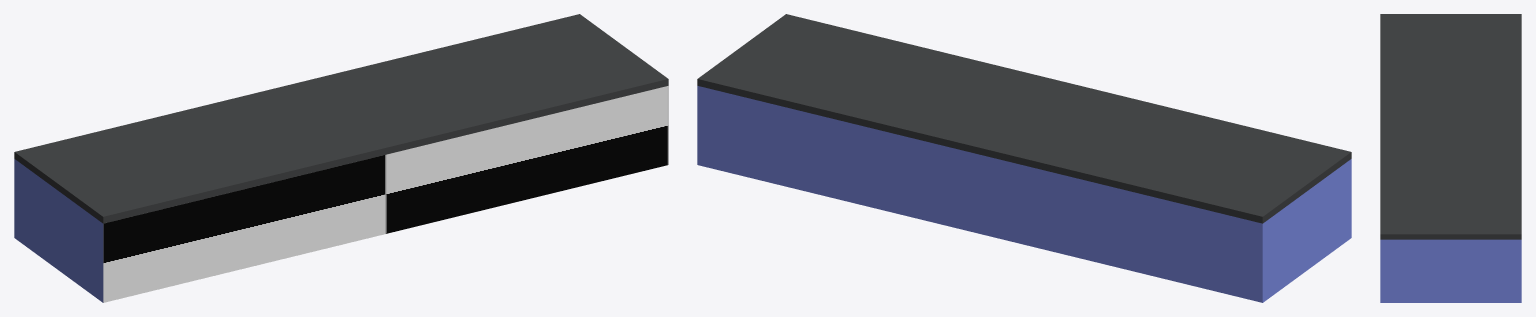
Rendered from Block.fbx.
The picture shows the model from 3 angles, left to right: view 1: azimuth 30°, elevation 25°; view 2: azimuth 150°, elevation 25°; view 3: azimuth 270°, elevation 25°; orthographic projection. The views are drawn at different scales.
Parts seen in each view (by area): view 1: Cube; view 2: Cube; view 3: Cube.
Part boxes in pixels (x1,y1,x2,y2): Cube: (14,14,668,302); Cube: (697,14,1351,302); Cube: (1380,14,1521,302).
Bounding box in the file's own units: 736 × 107 × 200.
